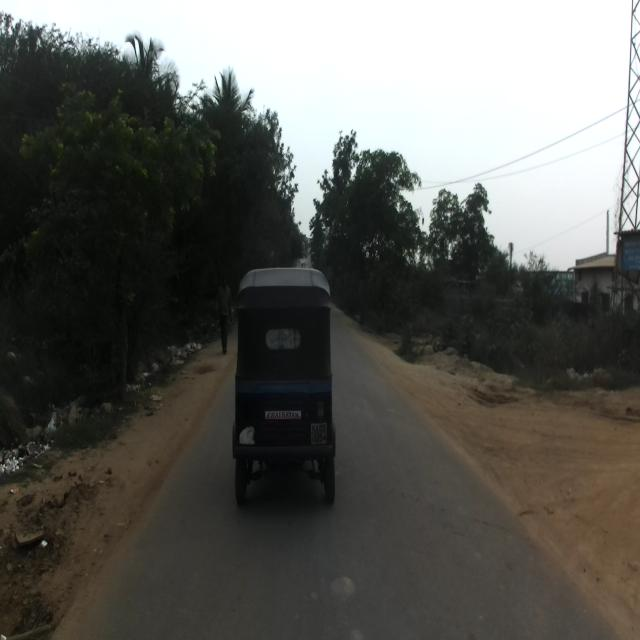auto ahead at: (238, 271, 336, 511)
